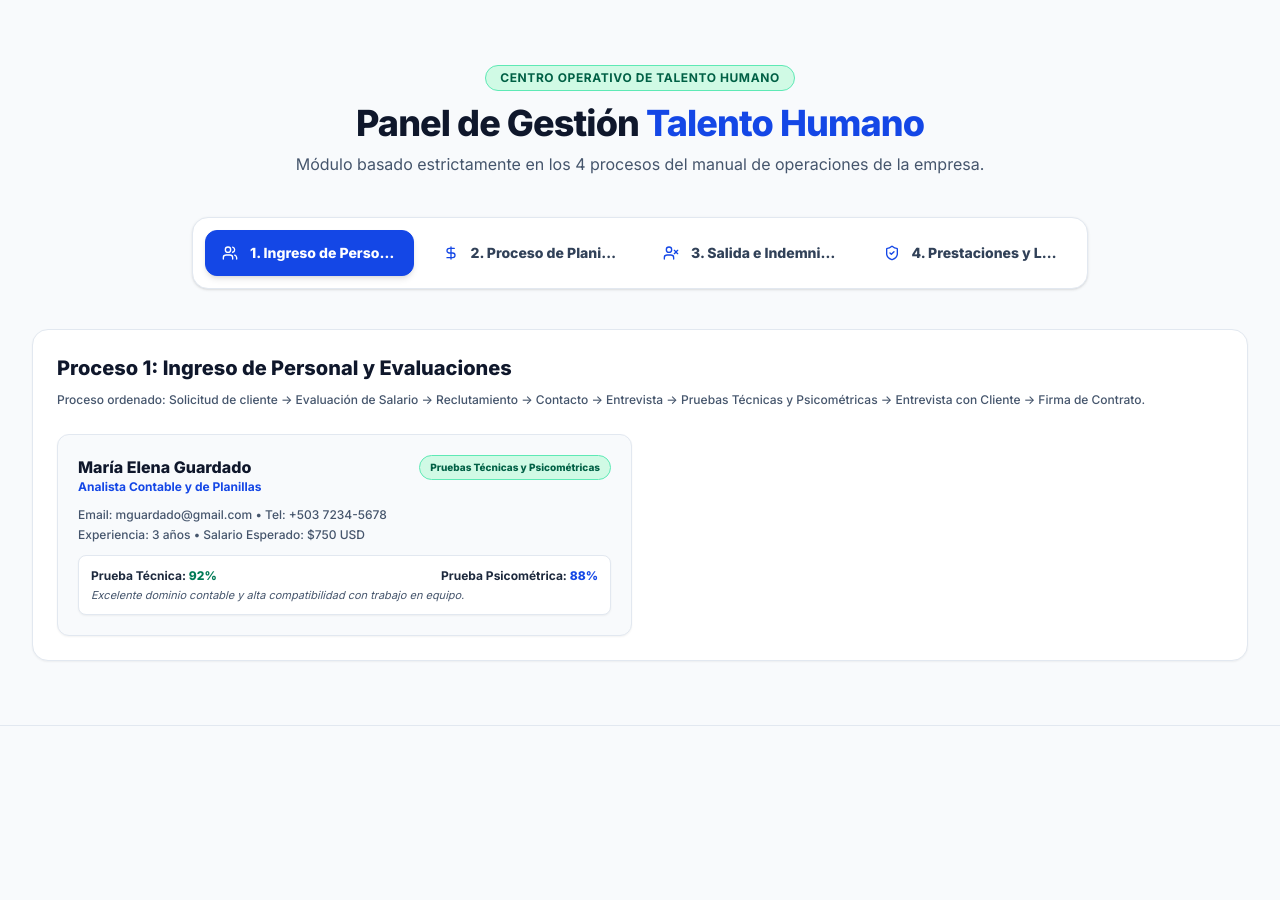
Test: HRDashboard Component › calculates severance correctly in offboarding tab
This screenshot has width=1280, height=900.
Step 1. Click the button "3. Salida e Indemnización" → (750, 253), box x1=646 y1=230 x2=854 y2=276
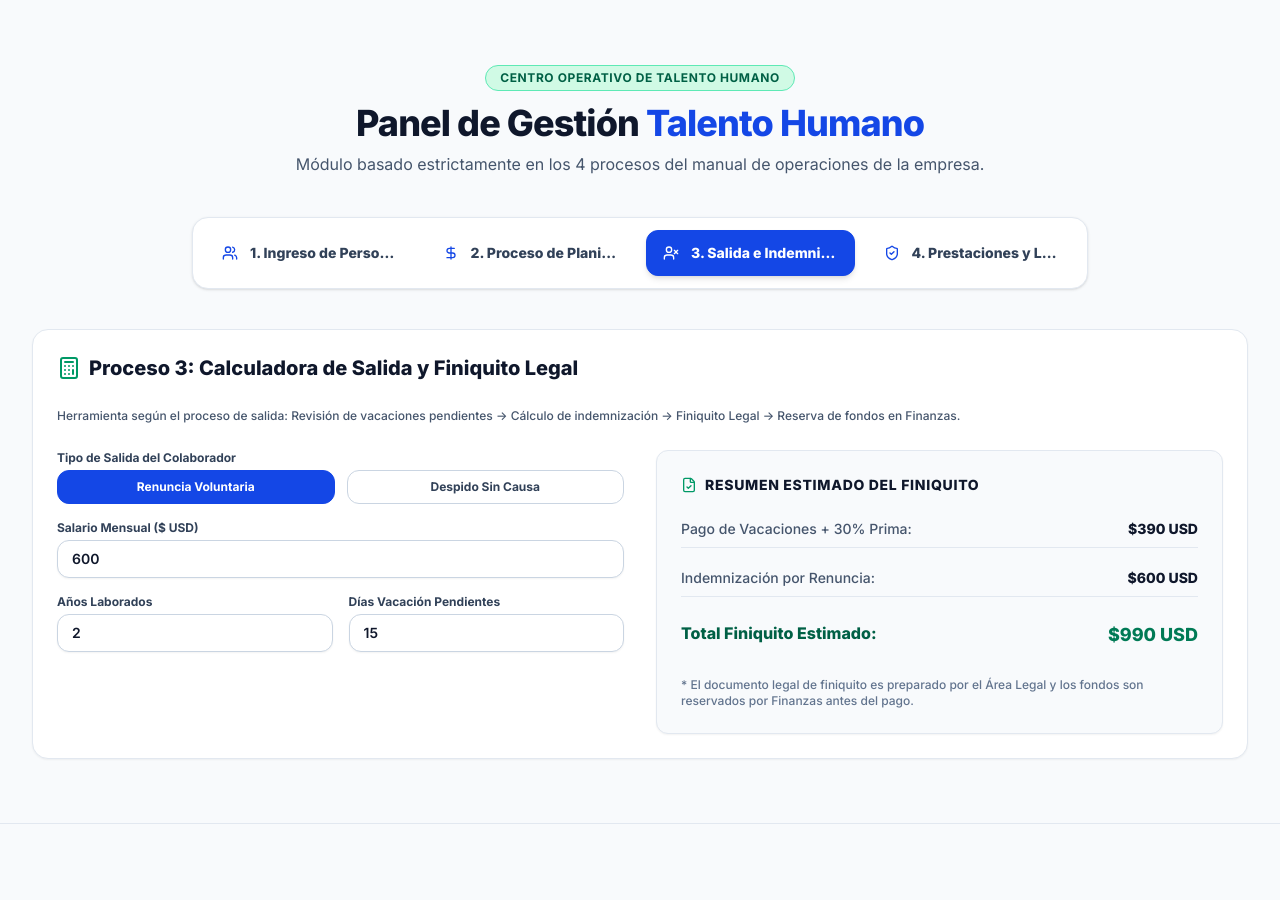
Now the heading "Proceso 3: Calculadora de Salida y Finiquito Legal" is shown, box x1=89 y1=354 x2=578 y2=382
Now the text "Total Finiquito Estimado:" is shown, box x1=681 y1=620 x2=876 y2=648
